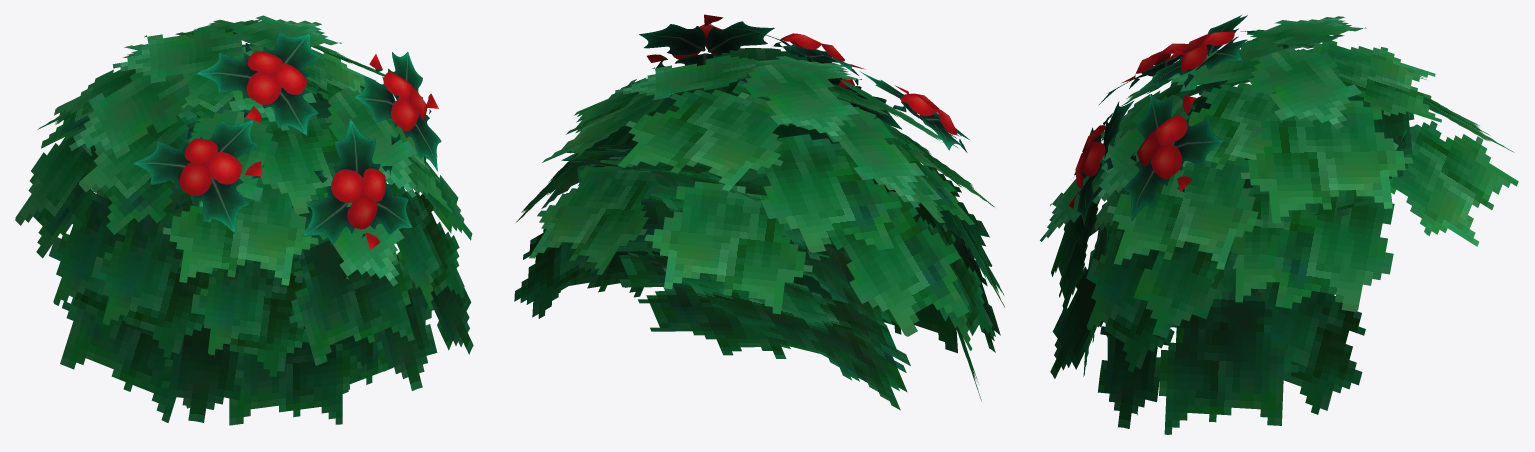
File: bush-holly.glb
3 views of the same model, side by side, from view 1: azimuth 30°, elevation 25°; view 2: azimuth 150°, elevation 25°; view 3: azimuth 270°, elevation 25° (orthographic). The views are drawn at different scales.
Size of the model in its own units: 11.22 by 9.14 by 11.07.
Materials: 2 (2 with a texture image).
